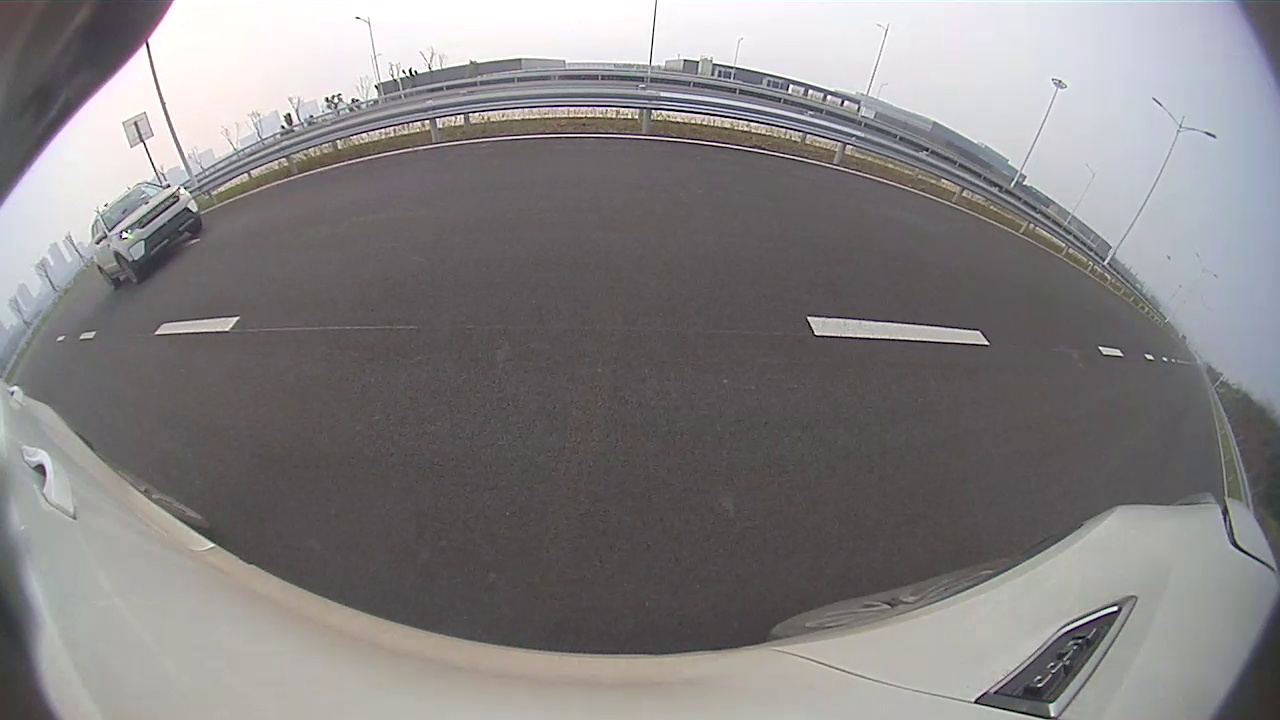car: (366, 148, 515, 245)
front: (499, 184, 515, 214)
rear: (447, 193, 473, 232)
